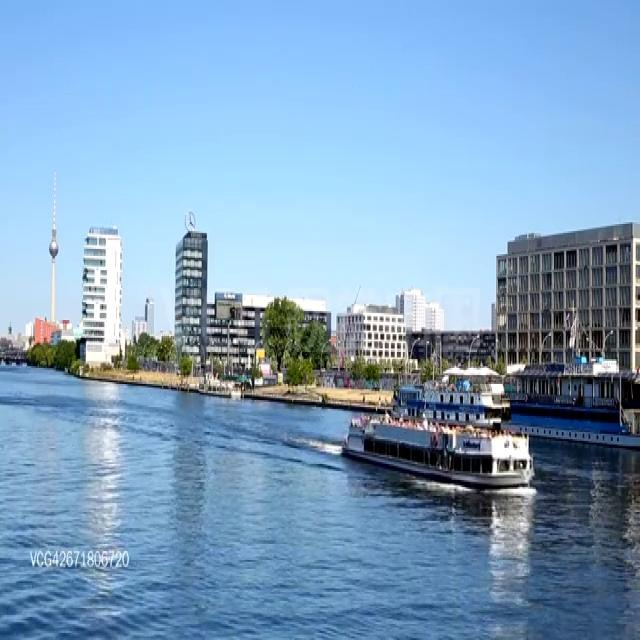passenger ship: (346, 406, 532, 492), (499, 361, 640, 446), (390, 370, 501, 431), (198, 372, 243, 396)
